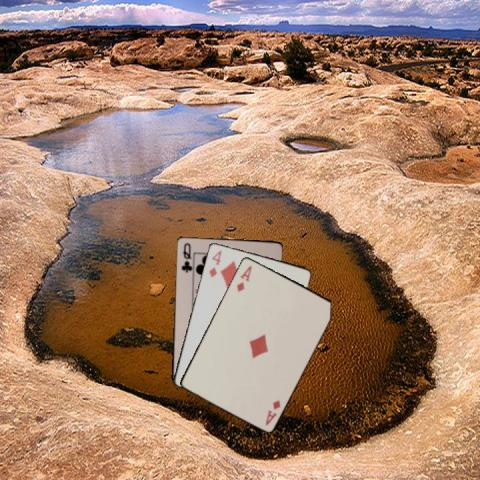4d: (206, 247, 223, 279)
Ad: (234, 263, 254, 293), (263, 396, 282, 426)
Qc: (178, 240, 193, 274)
